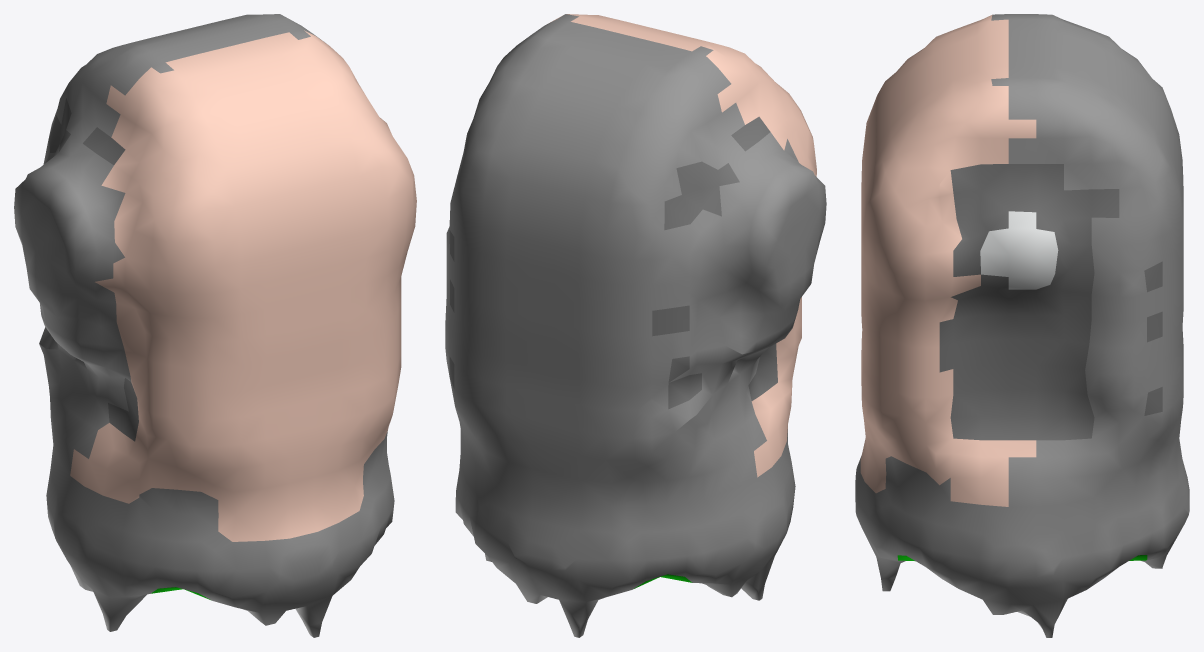
File: base_link_remeshed.dae
3 renders of one model, left to right at view 1: azimuth 30°, elevation 25°; view 2: azimuth 150°, elevation 25°; view 3: azimuth 270°, elevation 25°, orthographic. The views are drawn at different scales.
Visible parts, largest first — view 1: node0; view 2: node0; view 3: node0.
Boxes of the visible parts, x1=… form: node0: x1=14, y1=14, x2=416, y2=637; node0: x1=445, y1=14, x2=826, y2=637; node0: x1=855, y1=14, x2=1189, y2=637.
Bounding box in the file's own units: 0.0397 × 0.0362 × 0.0635.
